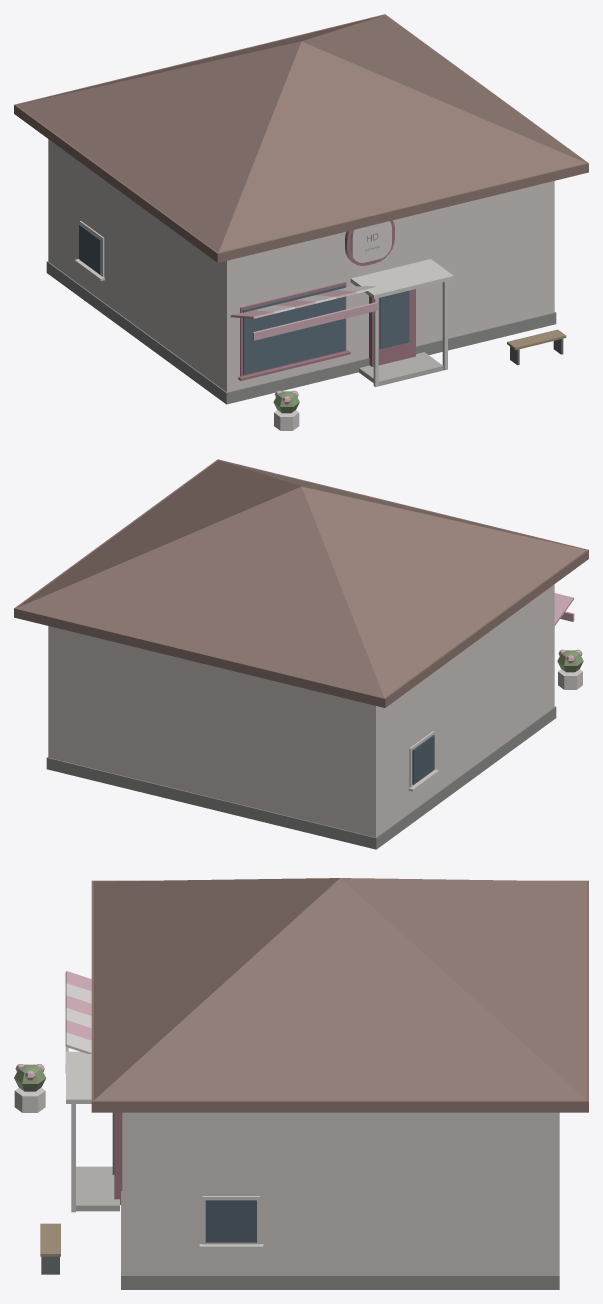
The model's file is shop_cake.glb.
The picture shows the model from 3 angles, top to bottom: view 1: azimuth 30°, elevation 25°; view 2: azimuth 150°, elevation 25°; view 3: azimuth 270°, elevation 25°; orthographic projection. The views are drawn at different scales.
Parts seen in each view (by area): view 1: Static, Sign; view 2: Static; view 3: Static.
Part boxes in pixels (x1,y1,x2,y2): Static: (14, 14, 588, 430); Sign: (345, 220, 394, 265); Static: (14, 459, 588, 849); Static: (14, 878, 588, 1289).
Size of the model in its own units: 10.2 by 6.75 by 11.22.
